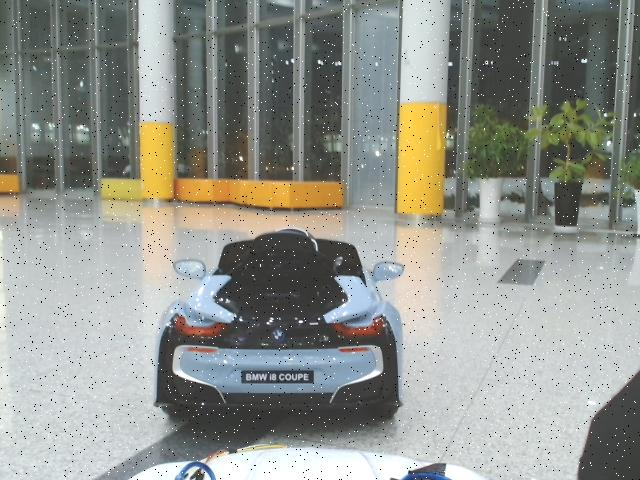car: (155, 227, 406, 426)
